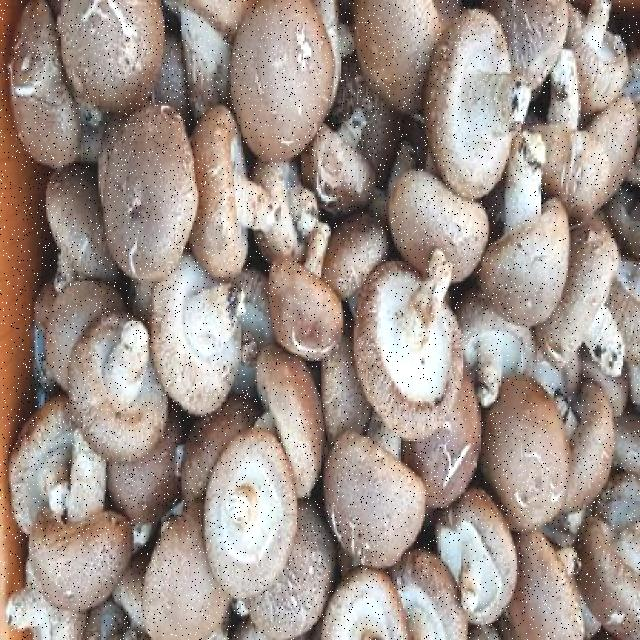Mushroom: (350, 238, 479, 458), (417, 18, 541, 210), (49, 294, 169, 488), (198, 414, 294, 606)
